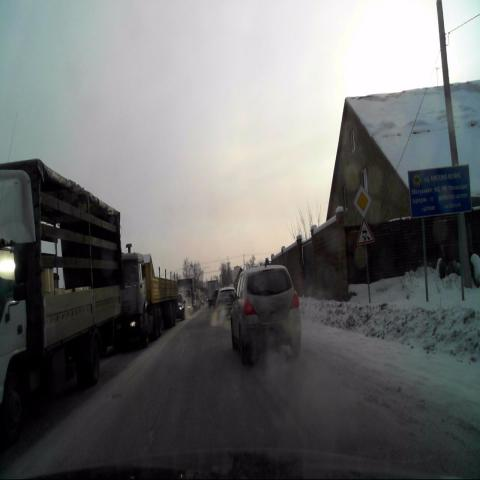1_15: (354, 218, 374, 245)
